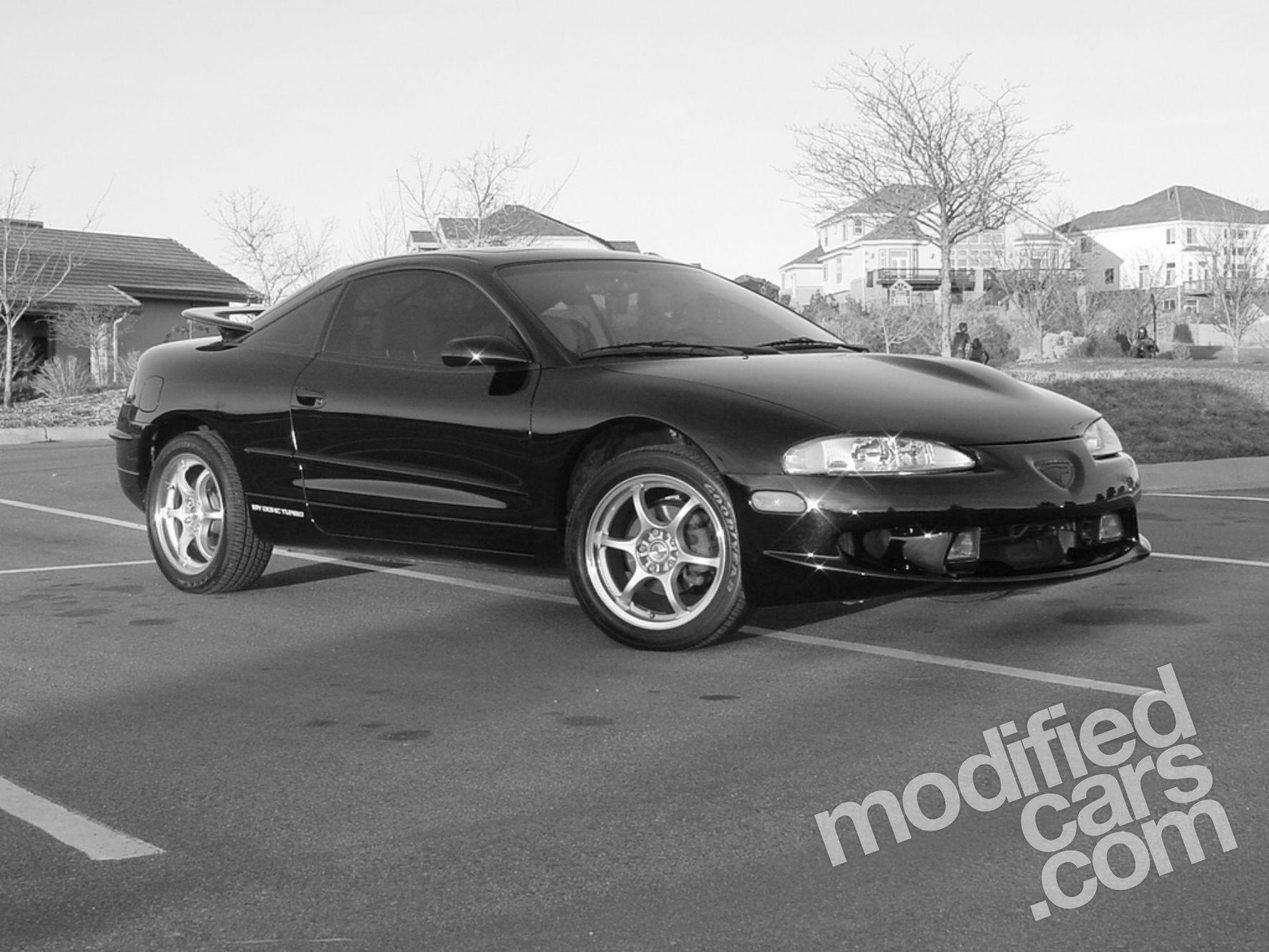car: (108, 251, 1150, 653)
